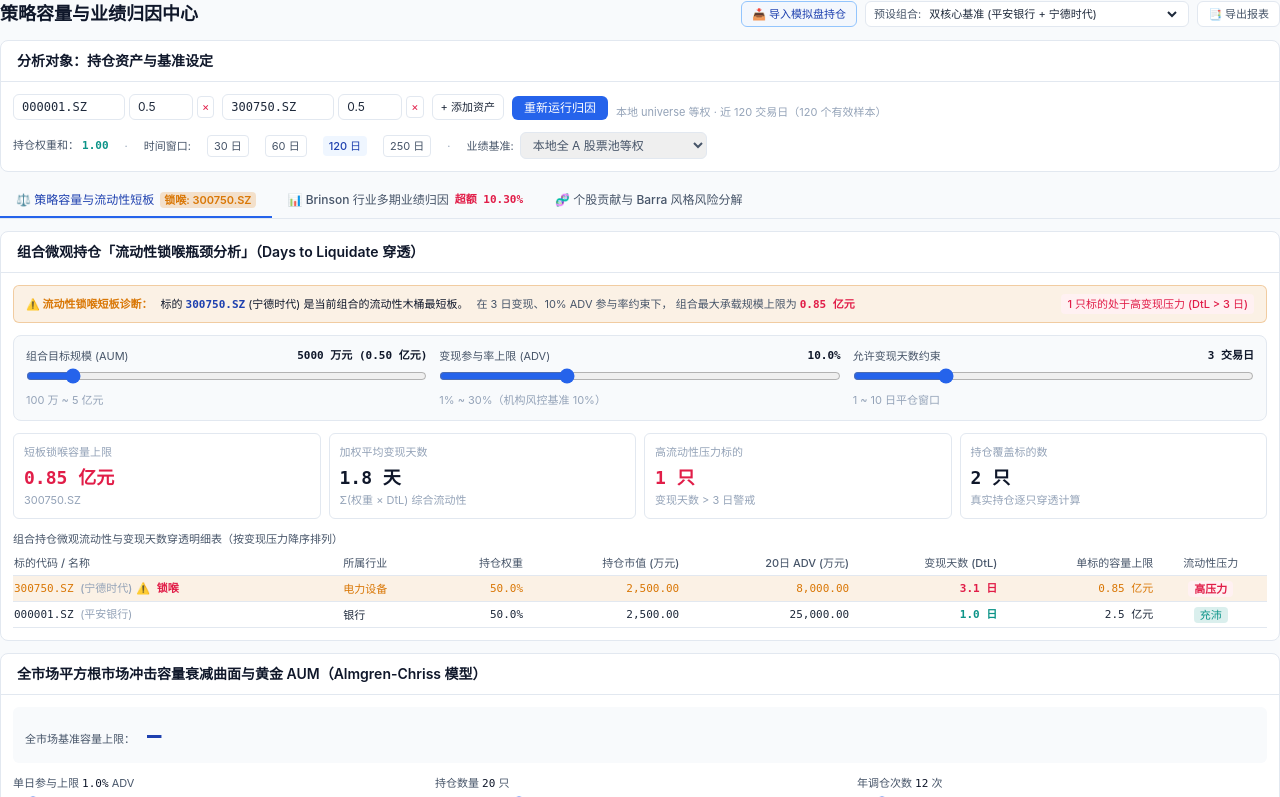
Test: CapacityAttribution Upgraded Workbench › 一键导入模拟盘持仓能够成功解析真实市值权重
The image size is (1280, 797).
Click the button "📥 导入模拟盘持仓".
click(799, 14)  # box [741,1,857,27]
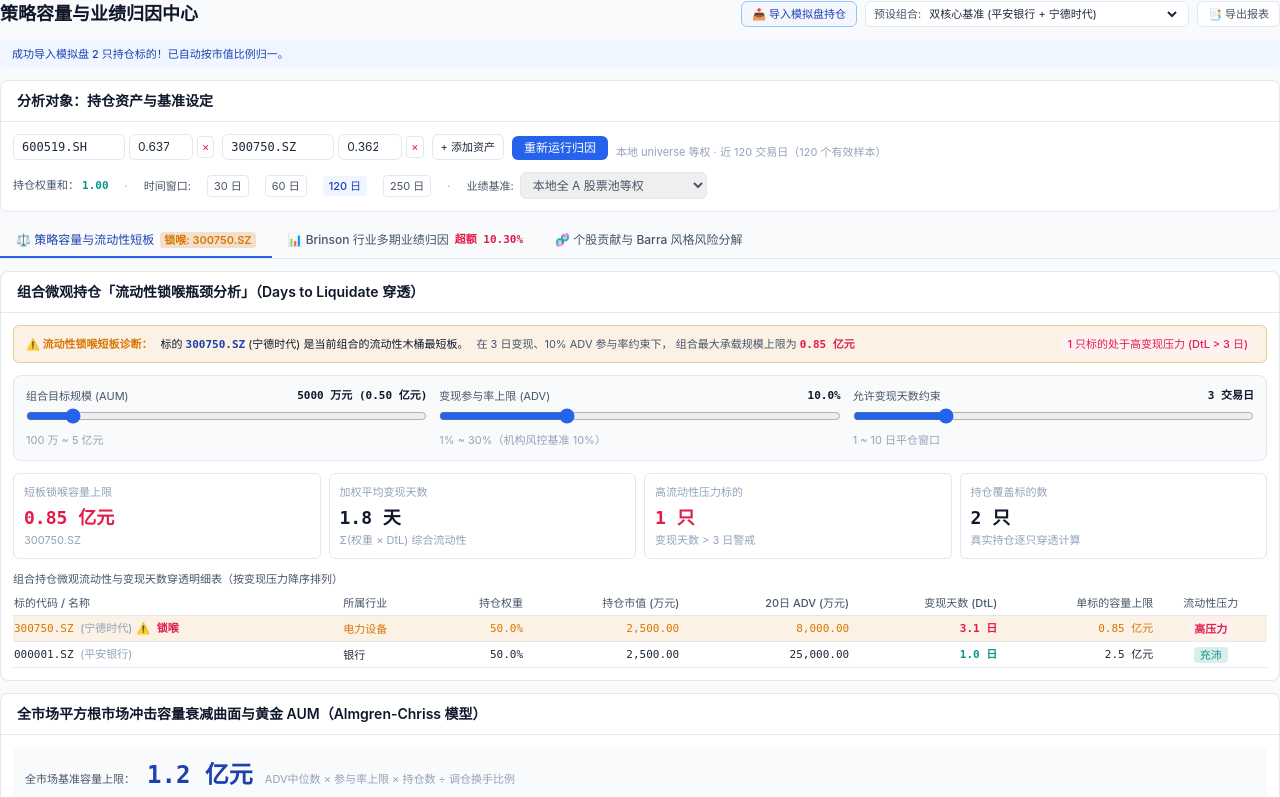
Expected: the text "成功导入模拟盘 2 只持仓标的！已自动按市值比例归一。" is shown, [0,40,1279,68]
